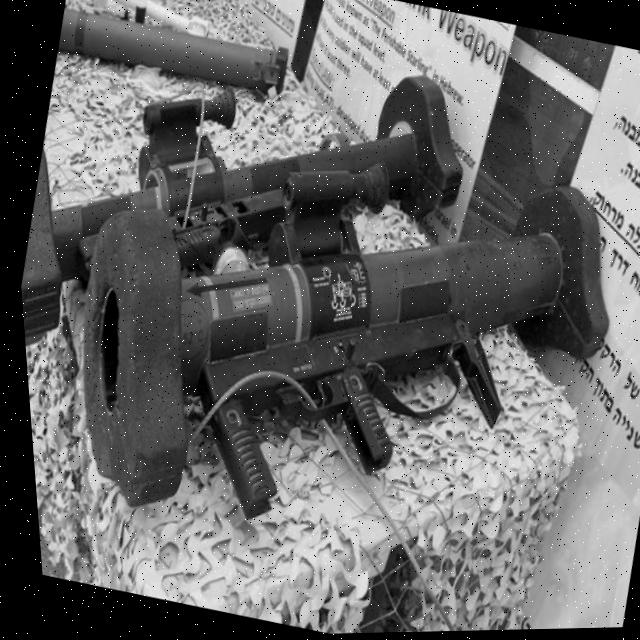rocket: (7, 0, 640, 605)
